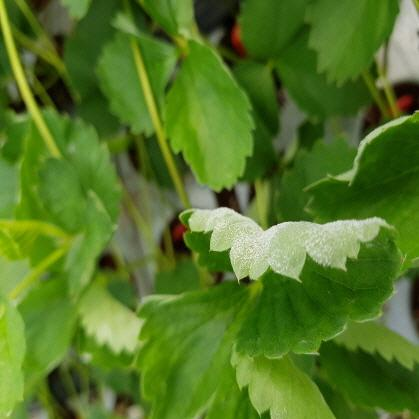Powdery Mildew Leaf: (177, 206, 403, 359), (300, 107, 418, 280)
